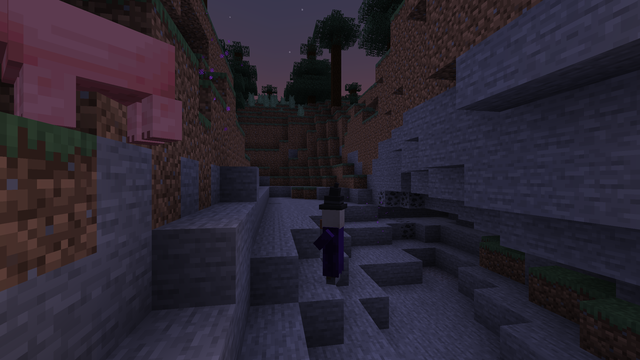cochons: (7, 0, 173, 143)
sorcieres: (320, 204, 347, 286)
